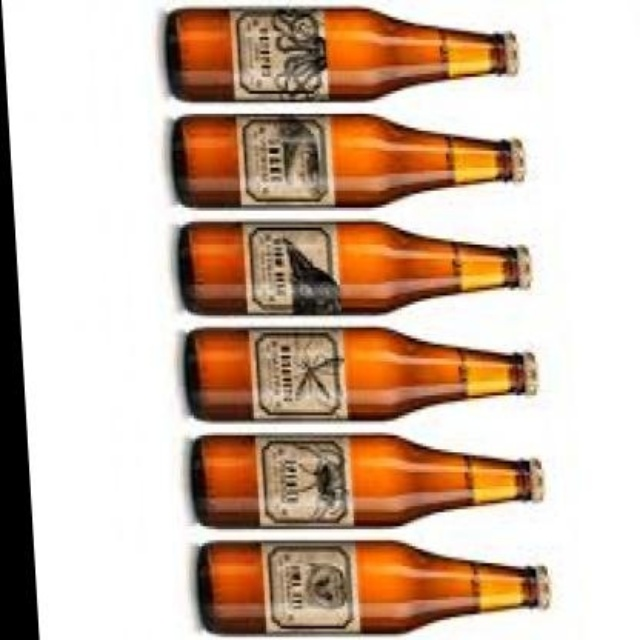trash: (172, 114, 523, 206), (192, 435, 540, 526), (198, 542, 548, 632), (185, 328, 535, 418), (166, 8, 515, 98), (180, 222, 529, 312)
